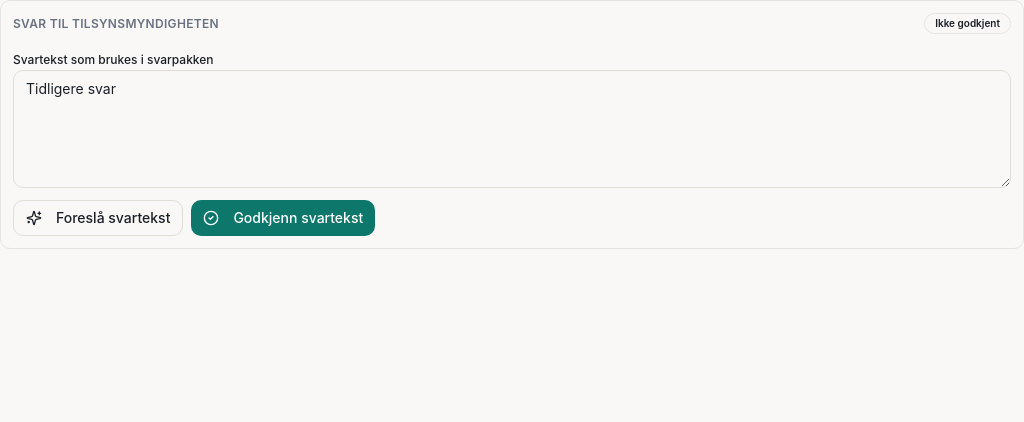
Test case: Applying an inspection response suggestion › requires a separate explicit approval after manually applying a draft
Later steps or results of the test are not shown.
Click the button "Foreslå svartekst": (98,218) [13, 200, 183, 236]
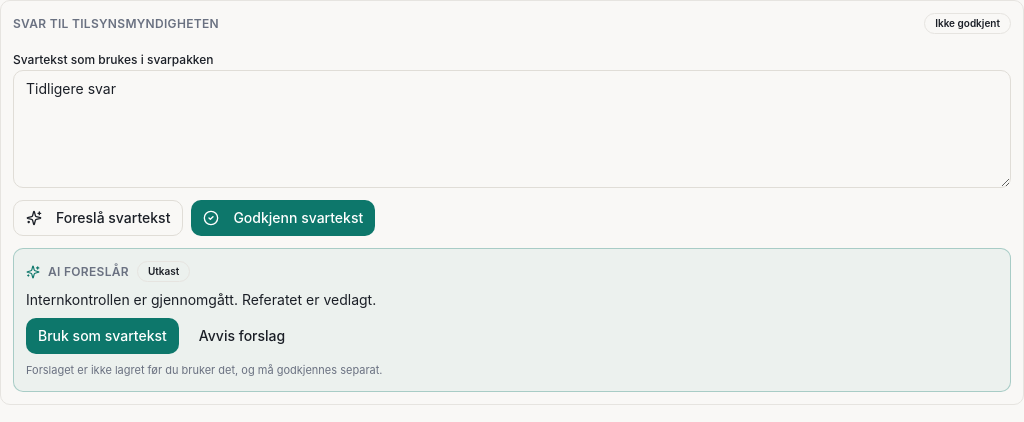
Check: the button "Bruk som svartekst" is shown
Click the button "Bruk som svartekst": (102,336) [26, 318, 179, 354]
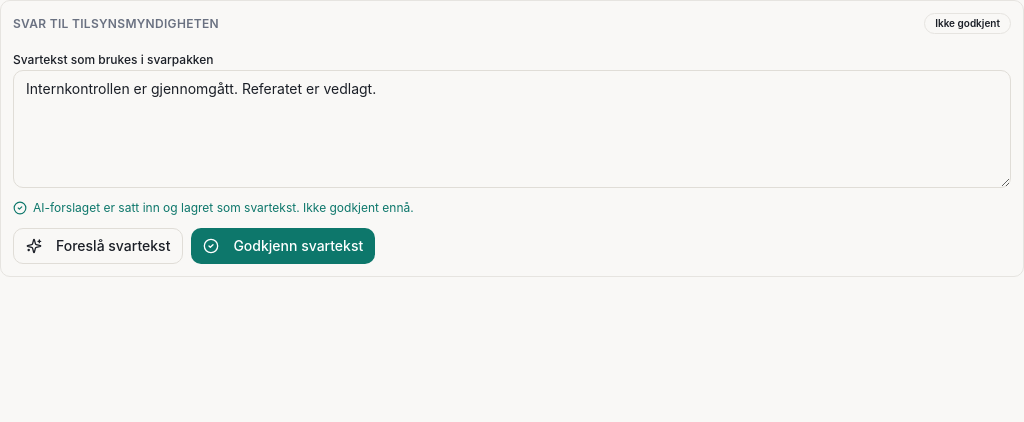
Check: the text box holds "Internkontrollen er gjennomgått. Referatet er vedlagt.", box [13, 70, 1011, 188]
